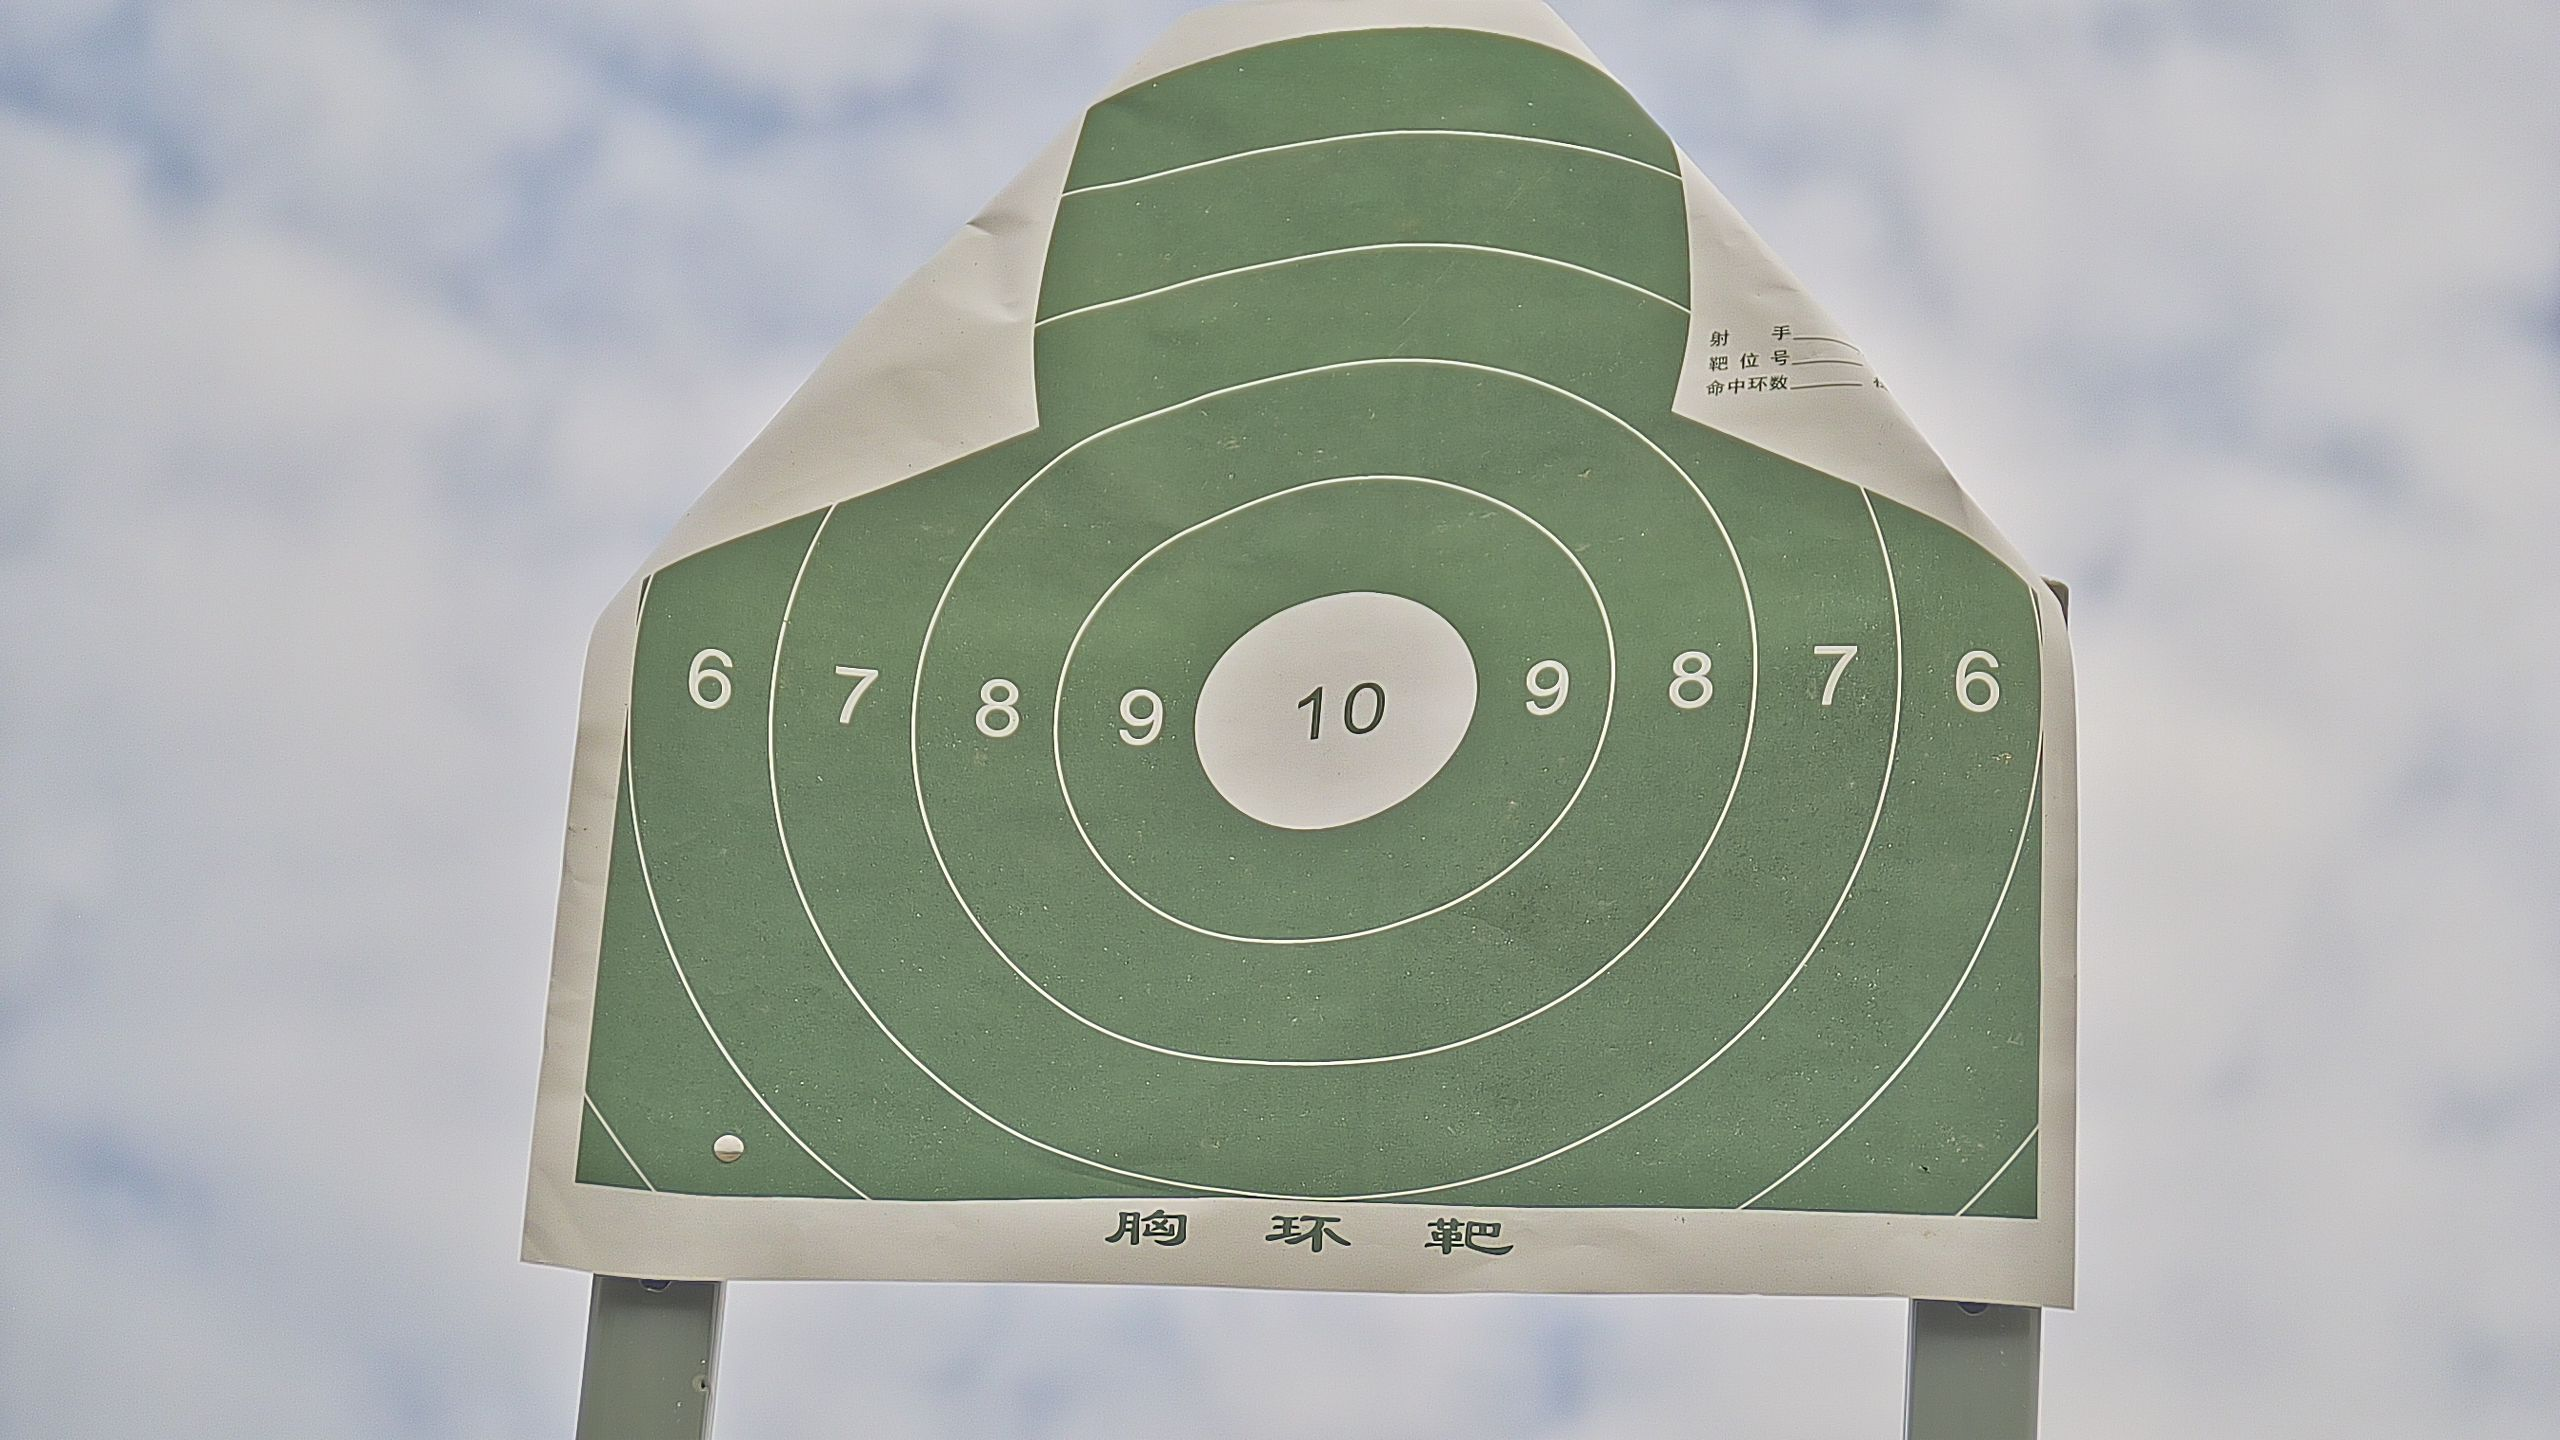kernel: (1327, 712, 1340, 716)
target: (573, 32, 2041, 1224)
ten: (1194, 593, 1480, 832)
